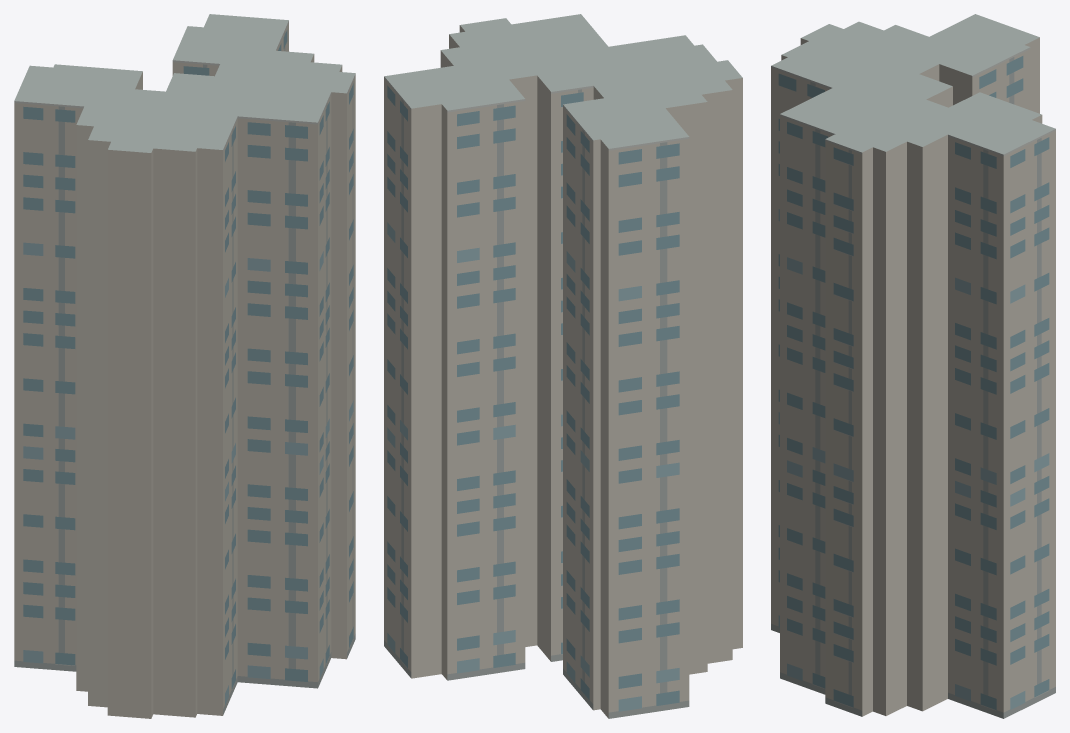
File: residential-dd06e835-e598-4c8d-ad6f-3667d68e82a6.glb
3 views of the same model, side by side, from view 1: azimuth 30°, elevation 25°; view 2: azimuth 150°, elevation 25°; view 3: azimuth 270°, elevation 25° (orthographic).
Parts seen in each view (by area): view 1: residential-dd06e835-e598-4c8d-ad6f-3667d68e82a6.tmp; view 2: residential-dd06e835-e598-4c8d-ad6f-3667d68e82a6.tmp; view 3: residential-dd06e835-e598-4c8d-ad6f-3667d68e82a6.tmp.
Part boxes in pixels (<box>): residential-dd06e835-e598-4c8d-ad6f-3667d68e82a6.tmp: <box>14,14,355,718</box>; residential-dd06e835-e598-4c8d-ad6f-3667d68e82a6.tmp: <box>384,14,742,718</box>; residential-dd06e835-e598-4c8d-ad6f-3667d68e82a6.tmp: <box>771,14,1055,718</box>.
Size of the model in its own units: 39.56 by 74 by 33.86.
